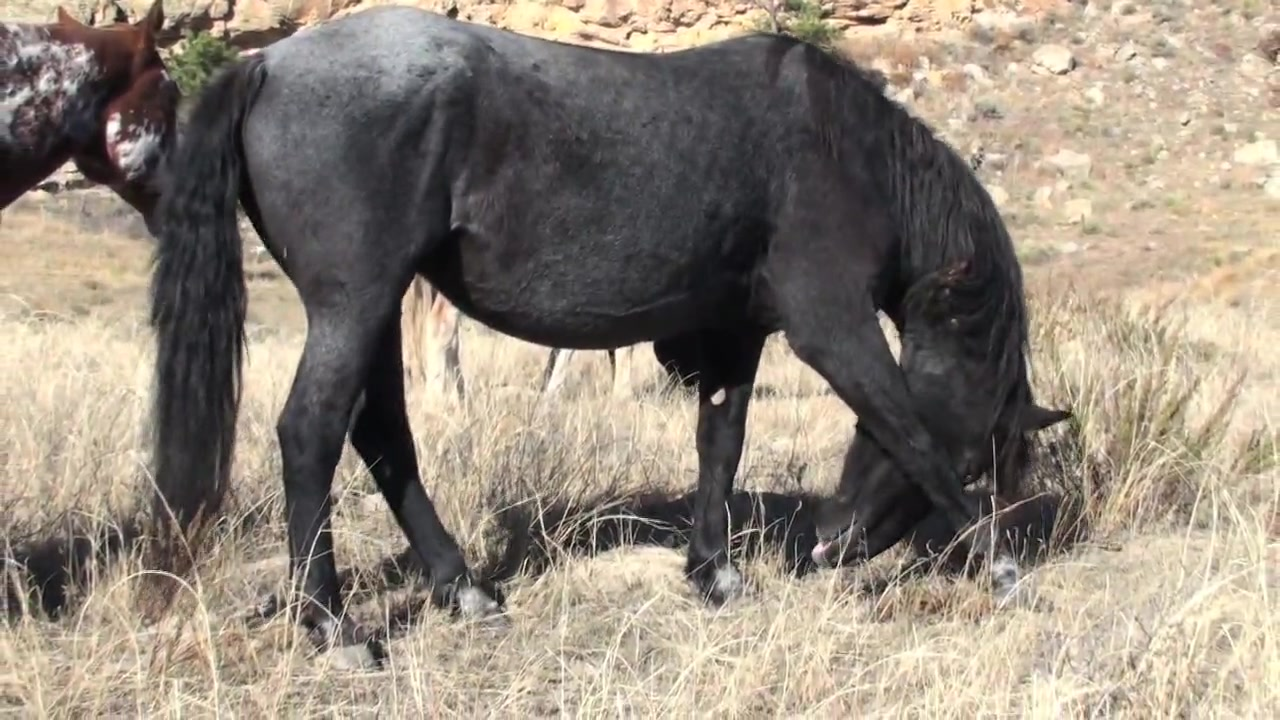horse: (144, 5, 1076, 673)
